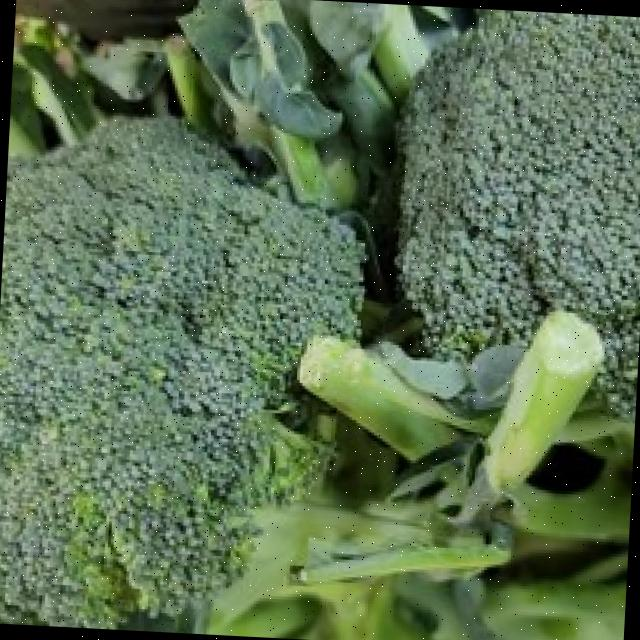Broccoli: (0, 120, 364, 630), (0, 120, 363, 630), (396, 8, 640, 416), (397, 8, 640, 415)
